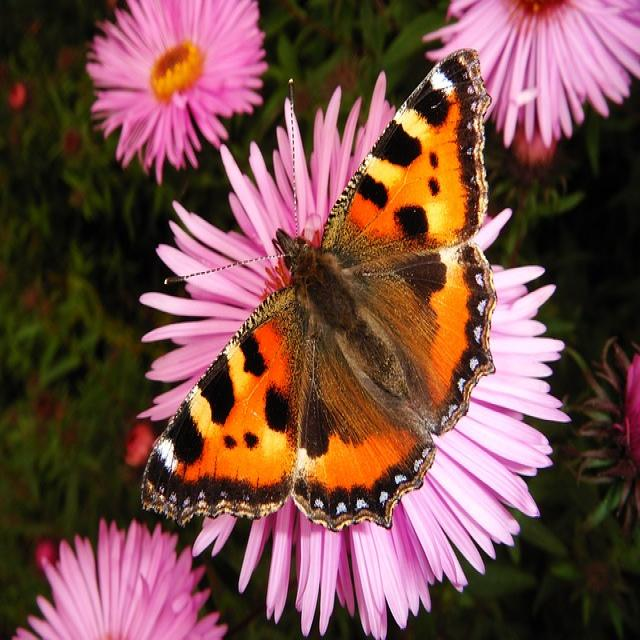butterfly: (140, 51, 512, 541)
